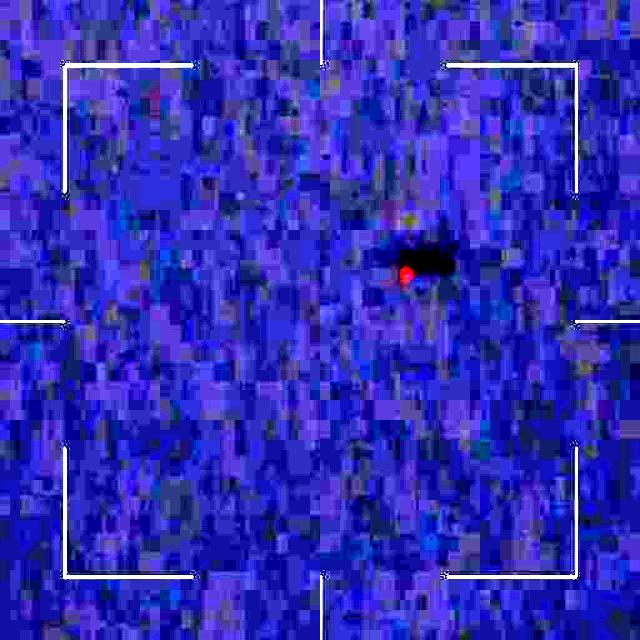bird: (394, 246, 416, 286)
